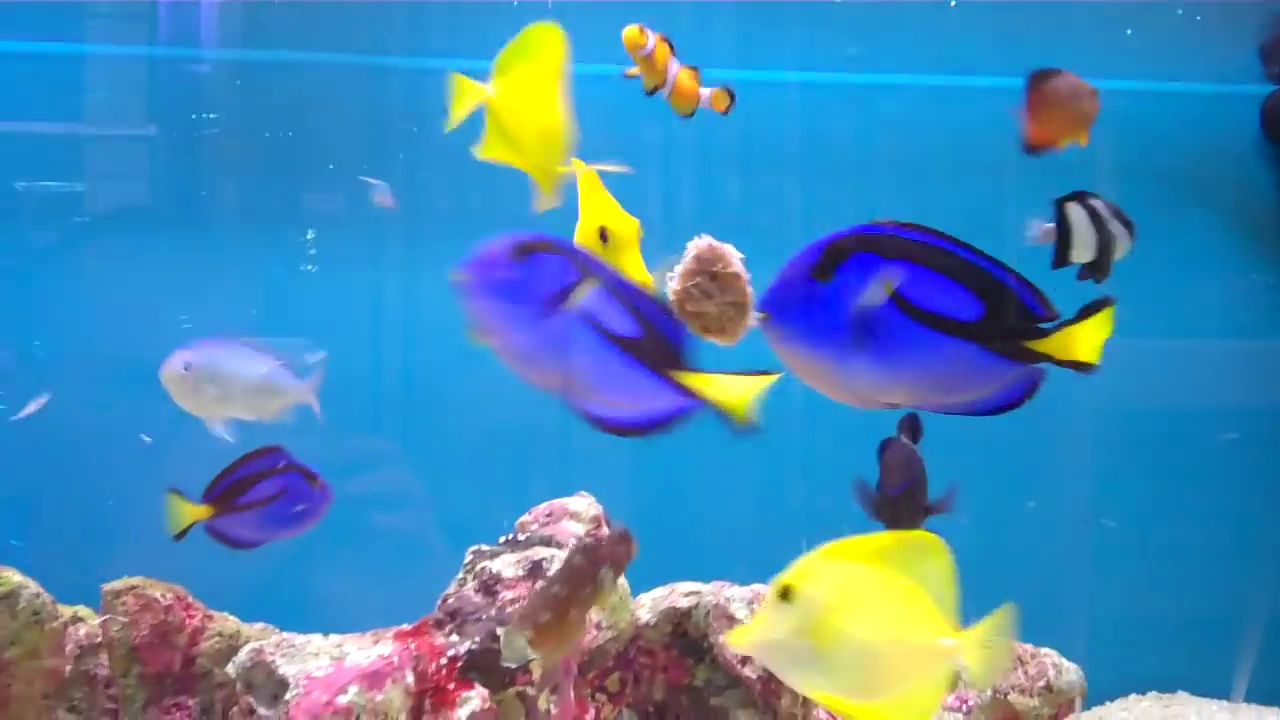blue tang surgeonfish: (765, 198, 1134, 418), (409, 245, 756, 451), (163, 444, 335, 571)
damselfish: (161, 347, 333, 437)
saddle butterfly fish: (704, 524, 1011, 720), (435, 14, 595, 212)
